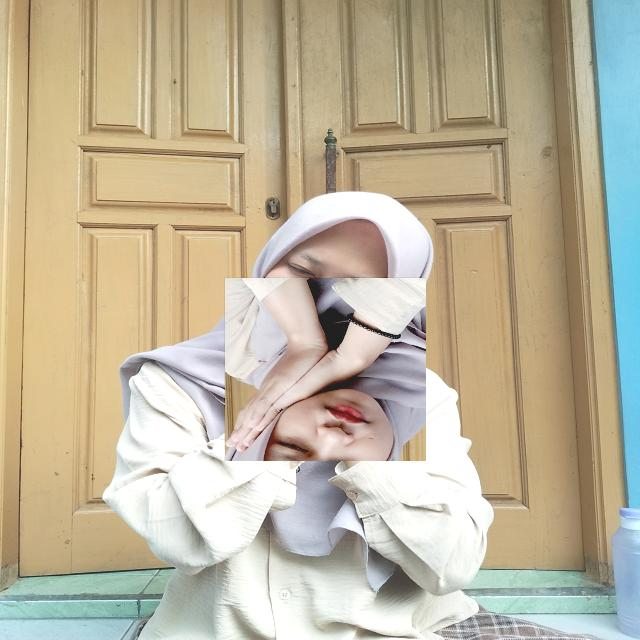tidur: (224, 277, 426, 461)
